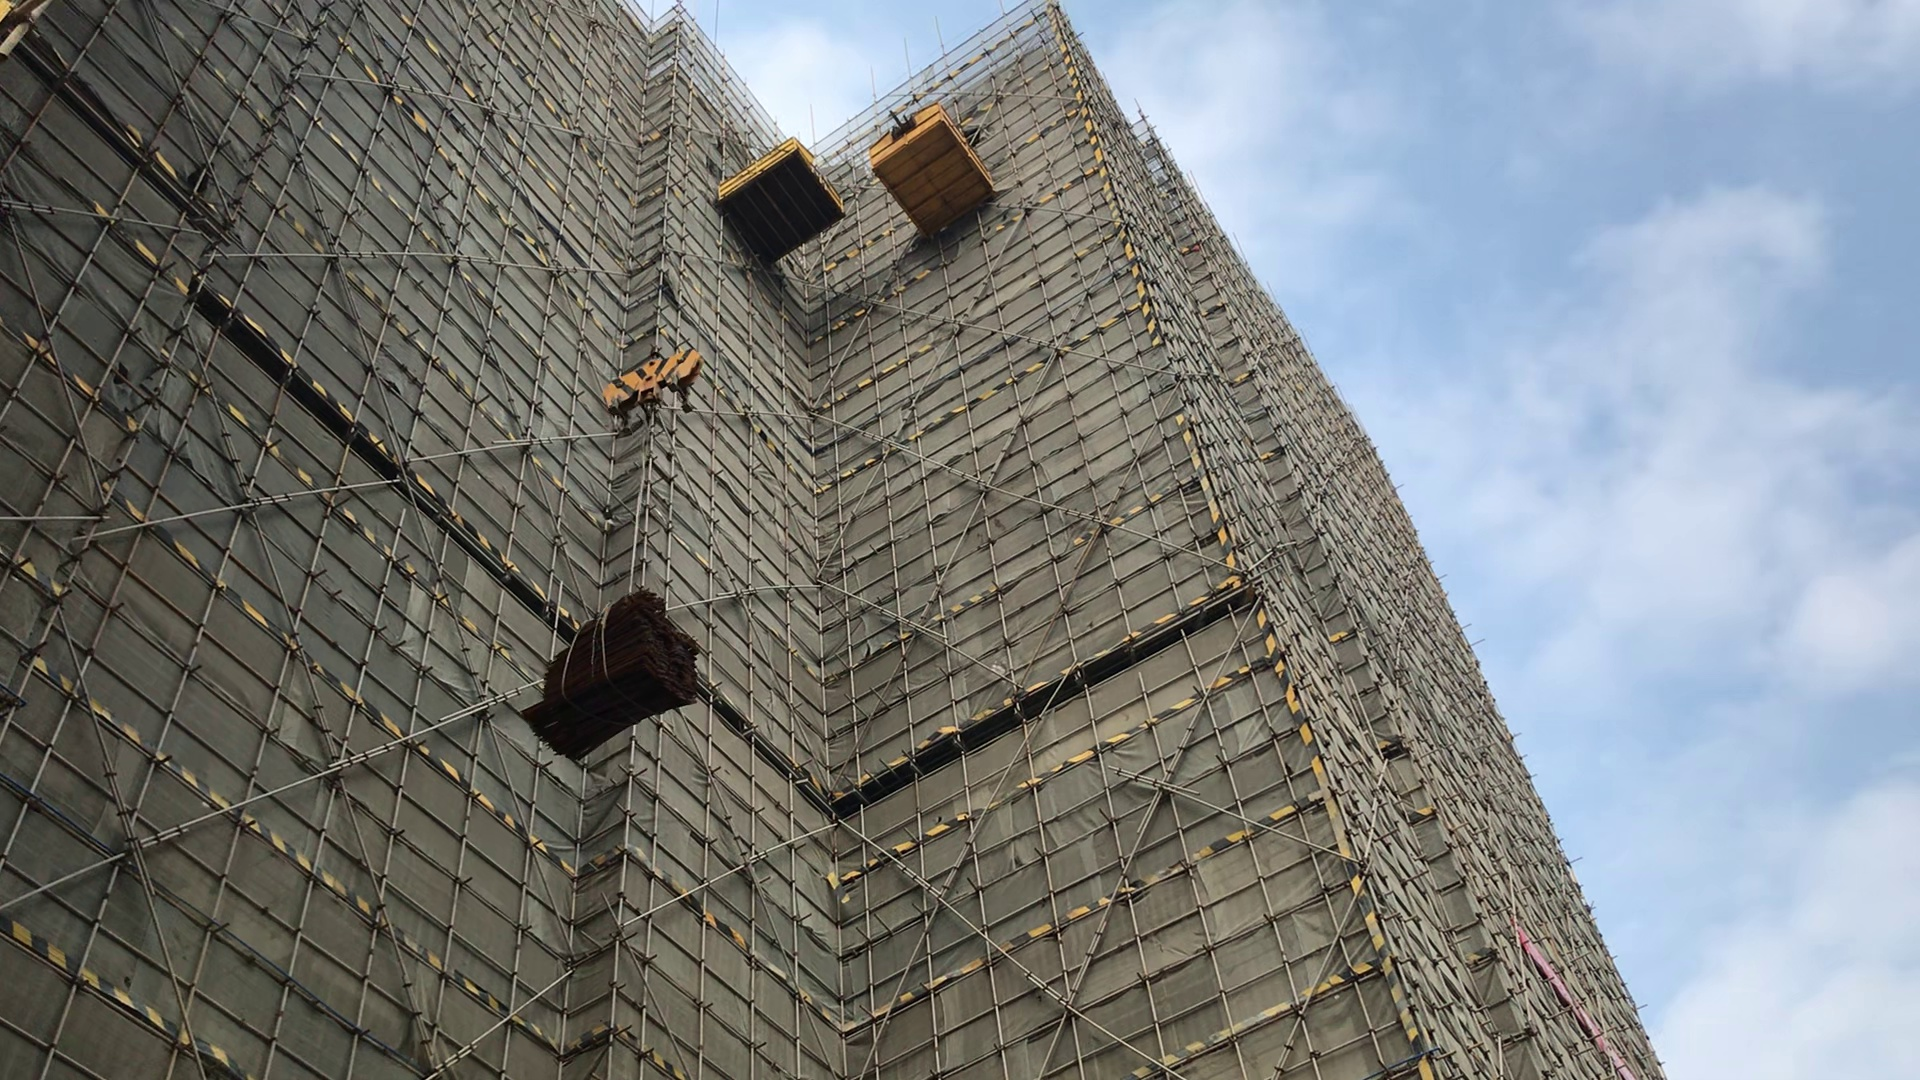hook: (608, 323, 707, 444)
